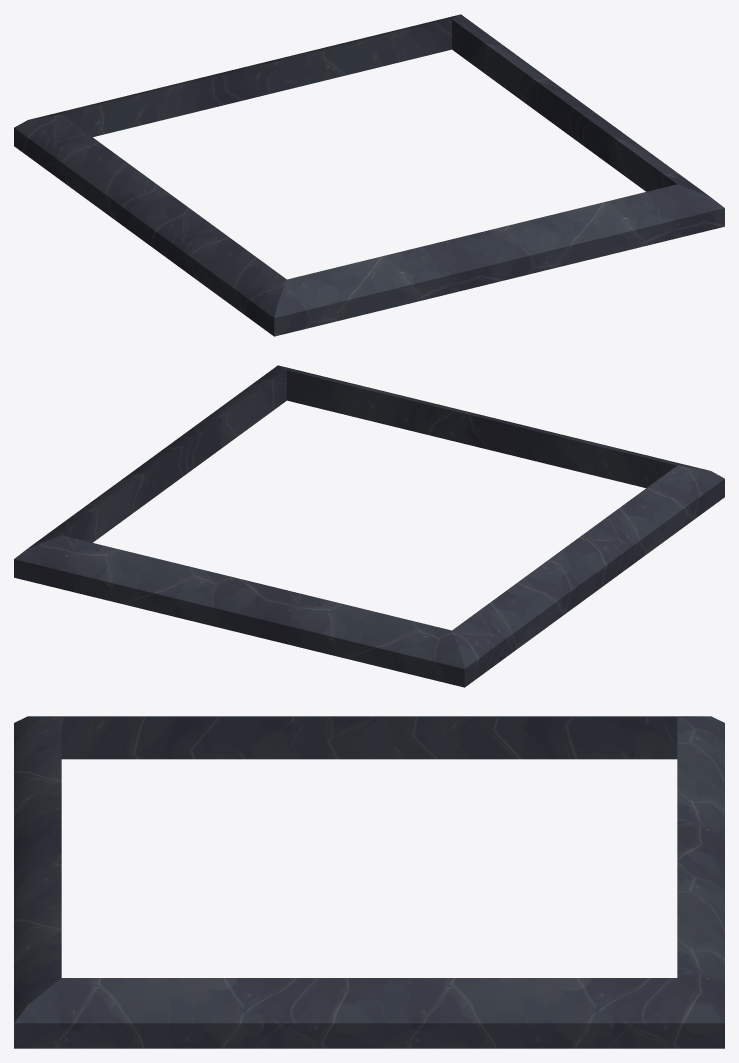
The model's file is Pressure plate Border.fbx.
The picture shows the model from 3 angles, top to bottom: view 1: azimuth 30°, elevation 25°; view 2: azimuth 150°, elevation 25°; view 3: azimuth 270°, elevation 25°; orthographic projection. The views are drawn at different scales.
Parts seen in each view (by area): view 1: Pressure_plate_Border_Nikita1; view 2: Pressure_plate_Border_Nikita1; view 3: Pressure_plate_Border_Nikita1.
Boxes of the visible parts, x1=… form: Pressure_plate_Border_Nikita1: x1=14, y1=14, x2=724, y2=336; Pressure_plate_Border_Nikita1: x1=14, y1=365, x2=724, y2=687; Pressure_plate_Border_Nikita1: x1=14, y1=716, x2=724, y2=1048.
Bounding box in the file's own units: 2.01 × 0.1576 × 2.01.
